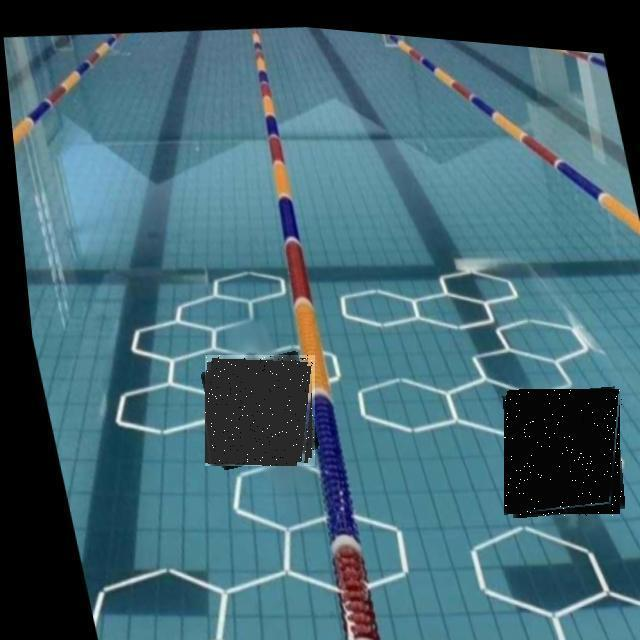swimming: (504, 389, 622, 516), (205, 355, 315, 466)
